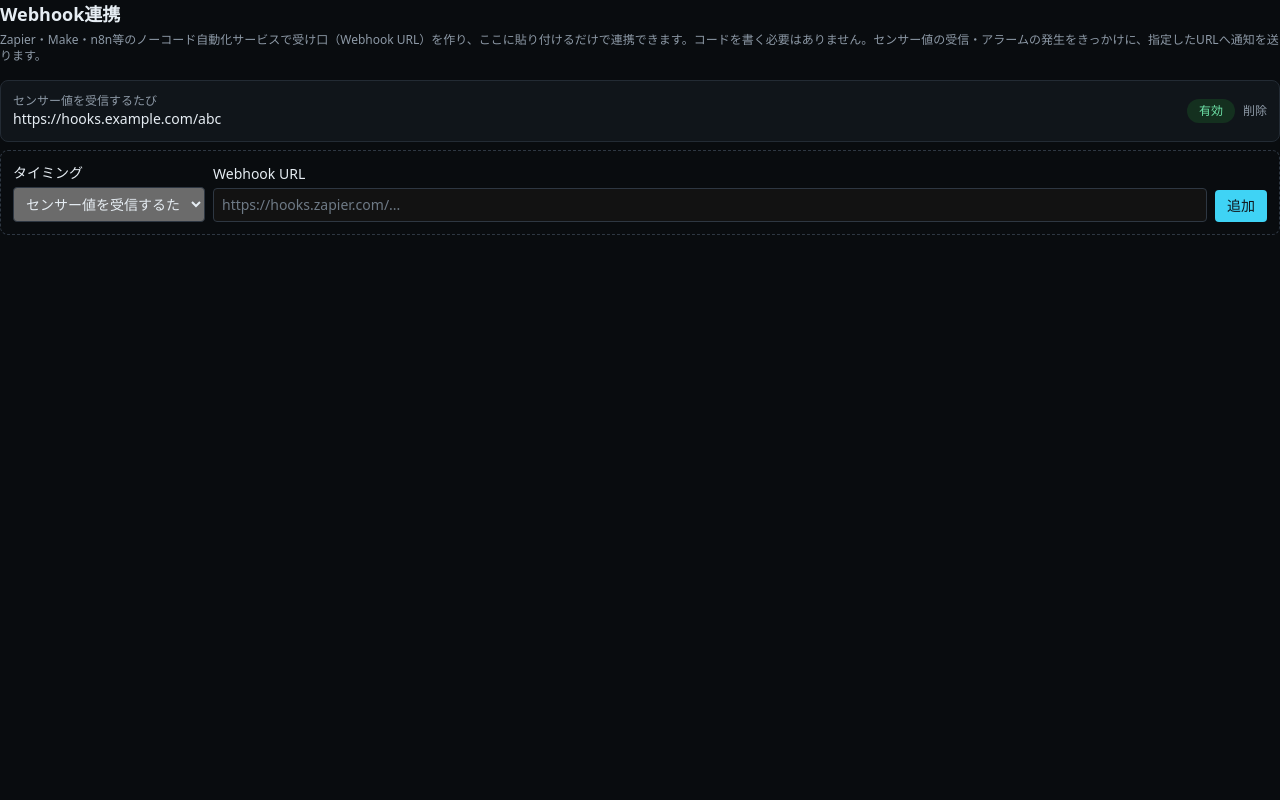
it: WebhookSettingsPanel の削除の確認と失敗 › 削除に失敗したとき、利用者向けの文言を表示する
Click the button "削除".
click(1255, 111)  # box [1243,103,1267,119]
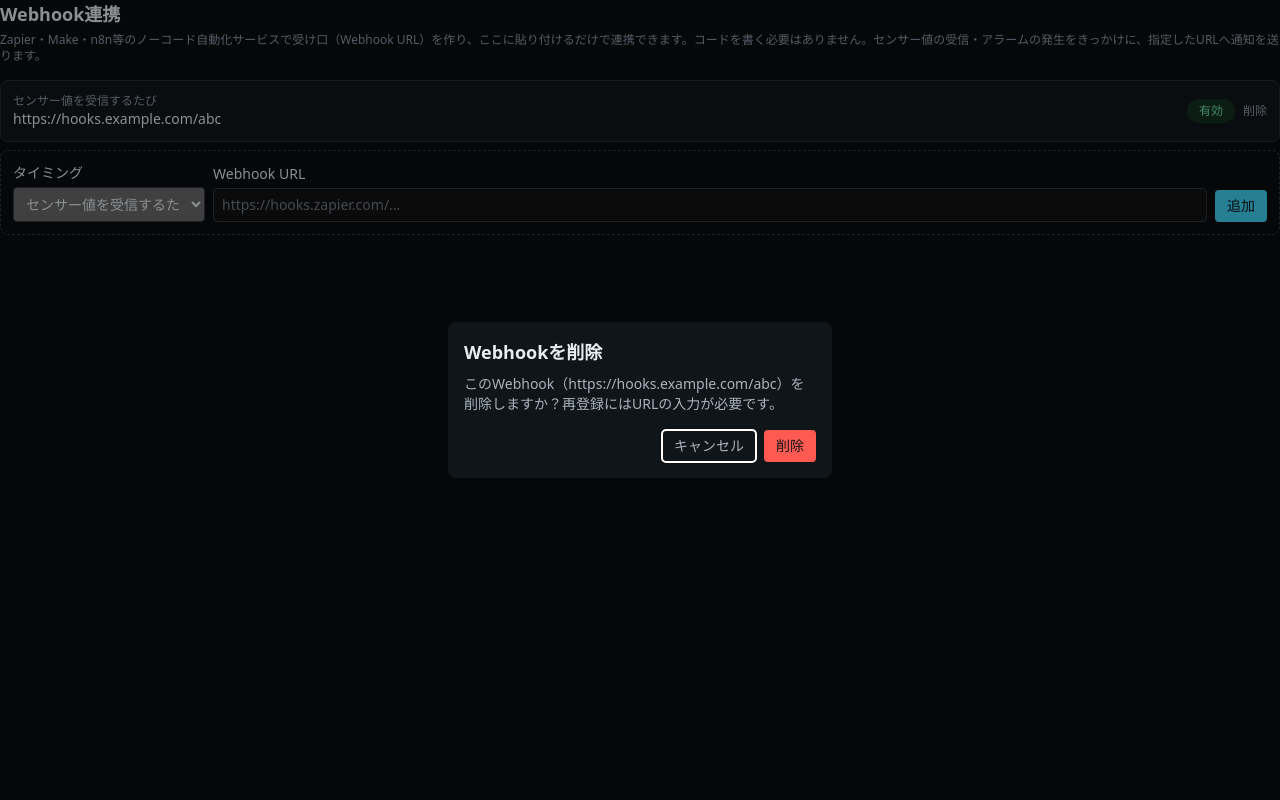
Click the button "削除".
click(790, 446)  # box [764,430,816,462]
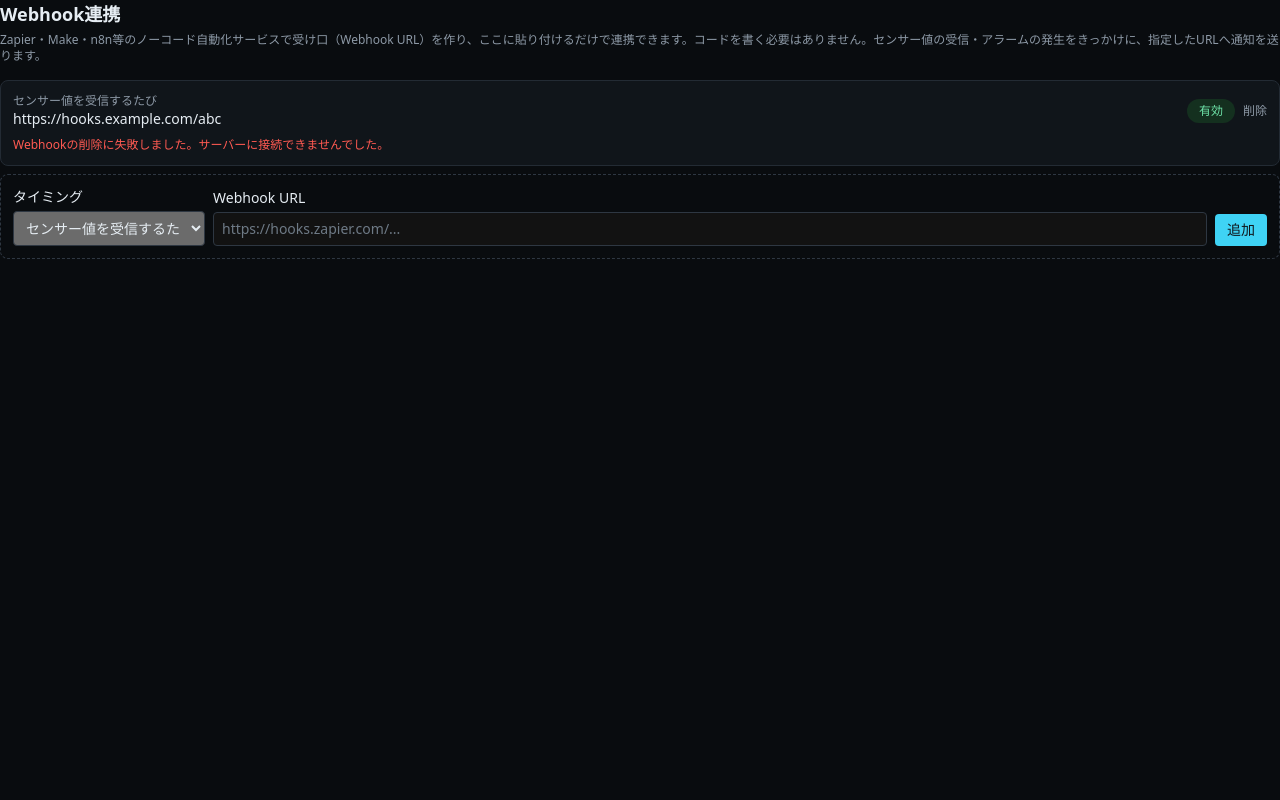
Check: the text "Webhookの削除に失敗しました。サーバーに接続できませんでした。" is shown, box [13,136,389,153]
